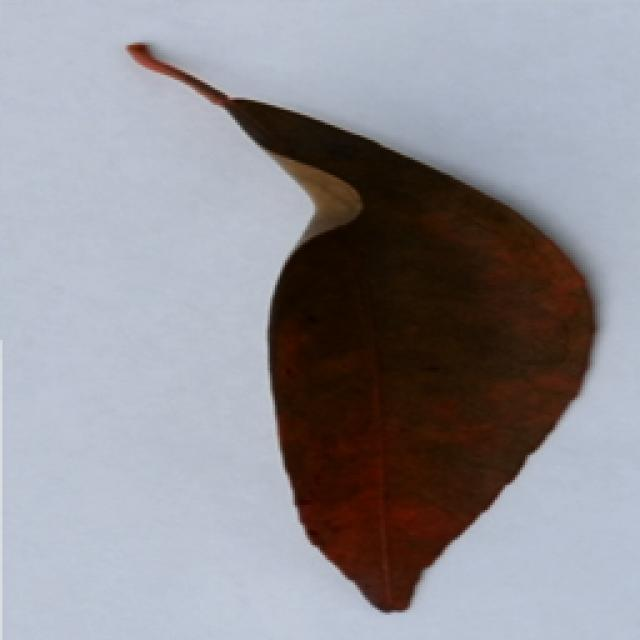greening: (122, 31, 598, 620)
